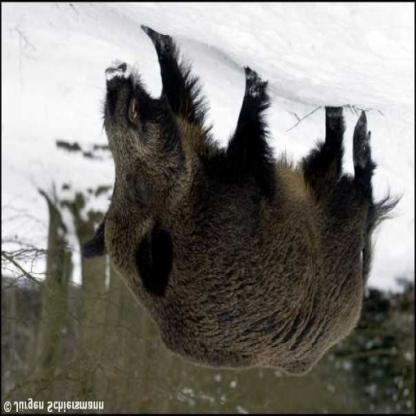boar: (83, 42, 414, 392)
